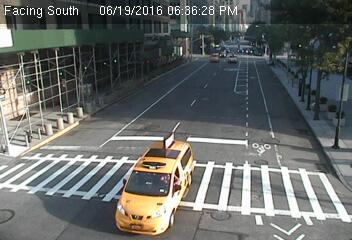neg: (2, 86, 22, 112), (15, 121, 35, 146)
